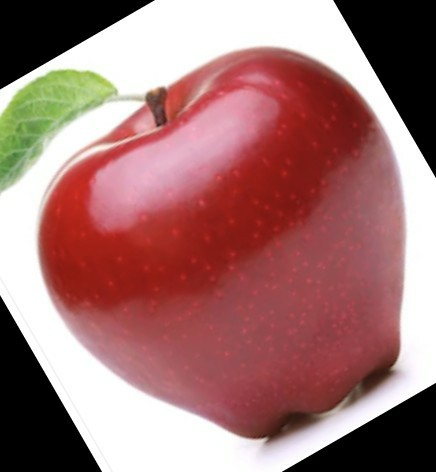fresh_apple: (38, 46, 406, 441)
